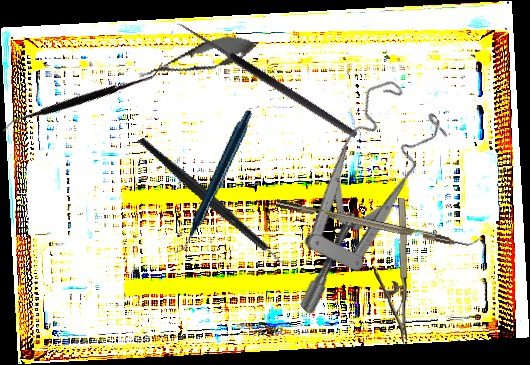Chopper: (137, 100, 299, 303), (275, 189, 481, 253)
Handpiece: (131, 109, 294, 254)
Hook Surgical: (169, 18, 360, 148)
Micro Scissor: (134, 27, 262, 91)
Needle Holder: (372, 197, 410, 346)
Spatula Surgical: (1, 11, 164, 185)
Speculum: (222, 67, 482, 318)
